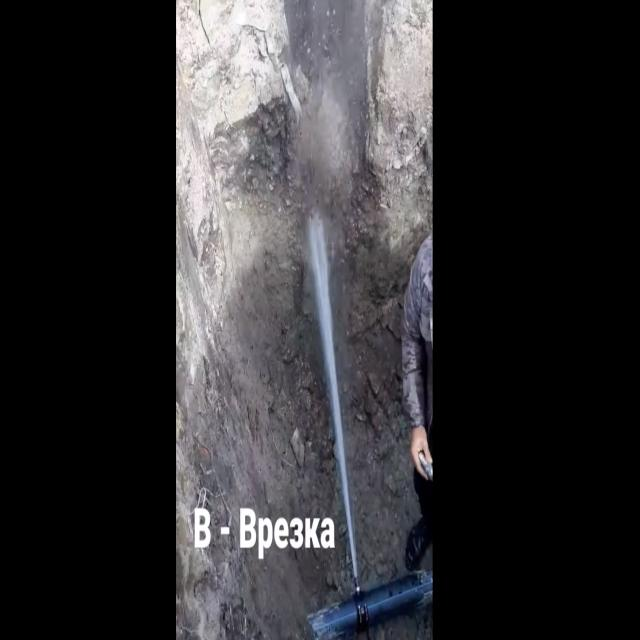leak: (309, 214, 360, 593)
